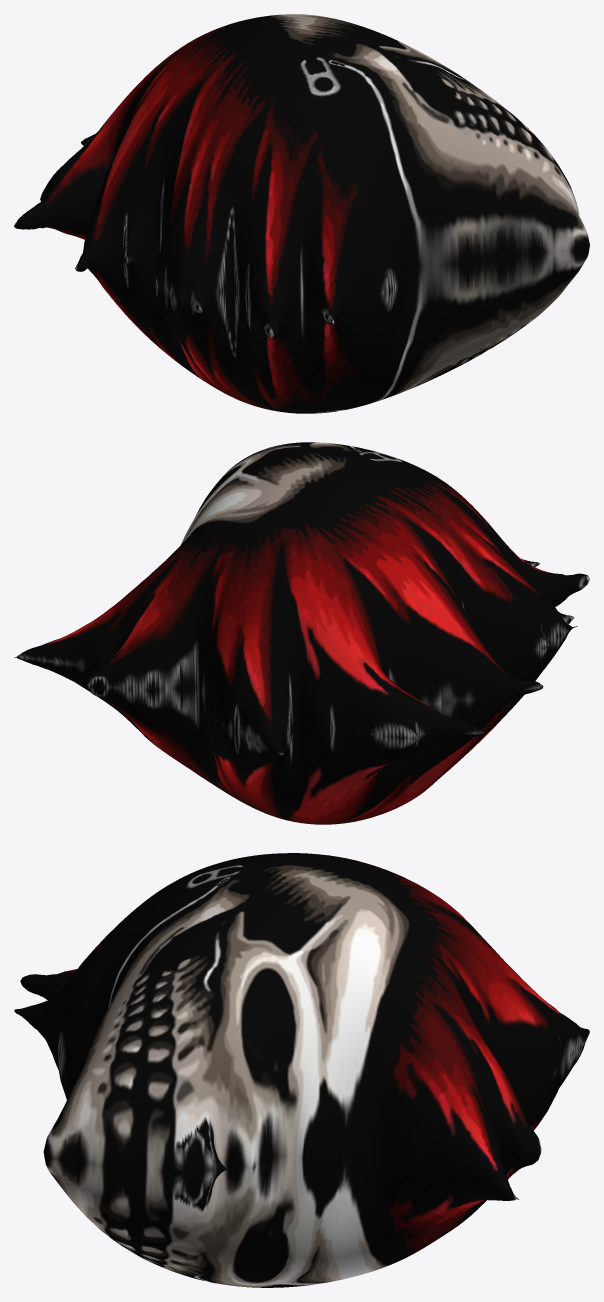
File: procesx.gltf
3 views of the same model, one above another, from view 1: azimuth 30°, elevation 25°; view 2: azimuth 150°, elevation 25°; view 3: azimuth 270°, elevation 25° (orthographic). The views are drawn at different scales.
Visible parts, largest first — view 1: mm_frame (3).001; view 2: mm_frame (3).001; view 3: mm_frame (3).001.
Boxes of the visible parts, left/top/right/bottom form: mm_frame (3).001: left=14, top=14, right=589, bottom=413; mm_frame (3).001: left=14, top=442, right=589, bottom=824; mm_frame (3).001: left=14, top=853, right=589, bottom=1287.
Size of the model in its own units: 5.31 by 3.99 by 5.26.
Materials: 1 (1 with a texture image).
